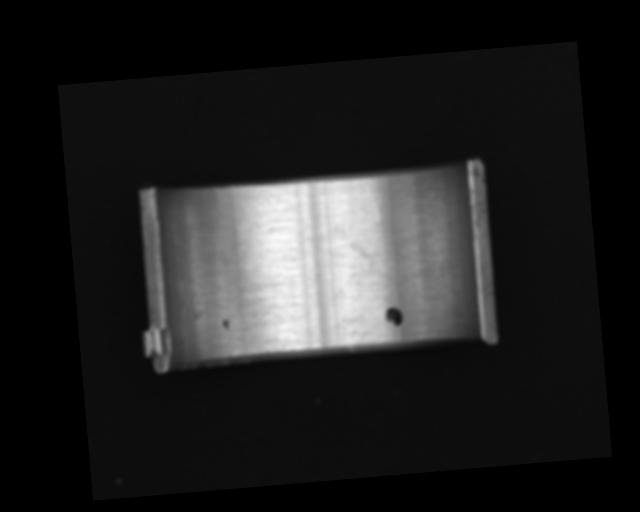blot: (347, 233, 395, 285), (383, 306, 404, 327)
bruise: (221, 317, 231, 331)
nick: (363, 181, 380, 221)
